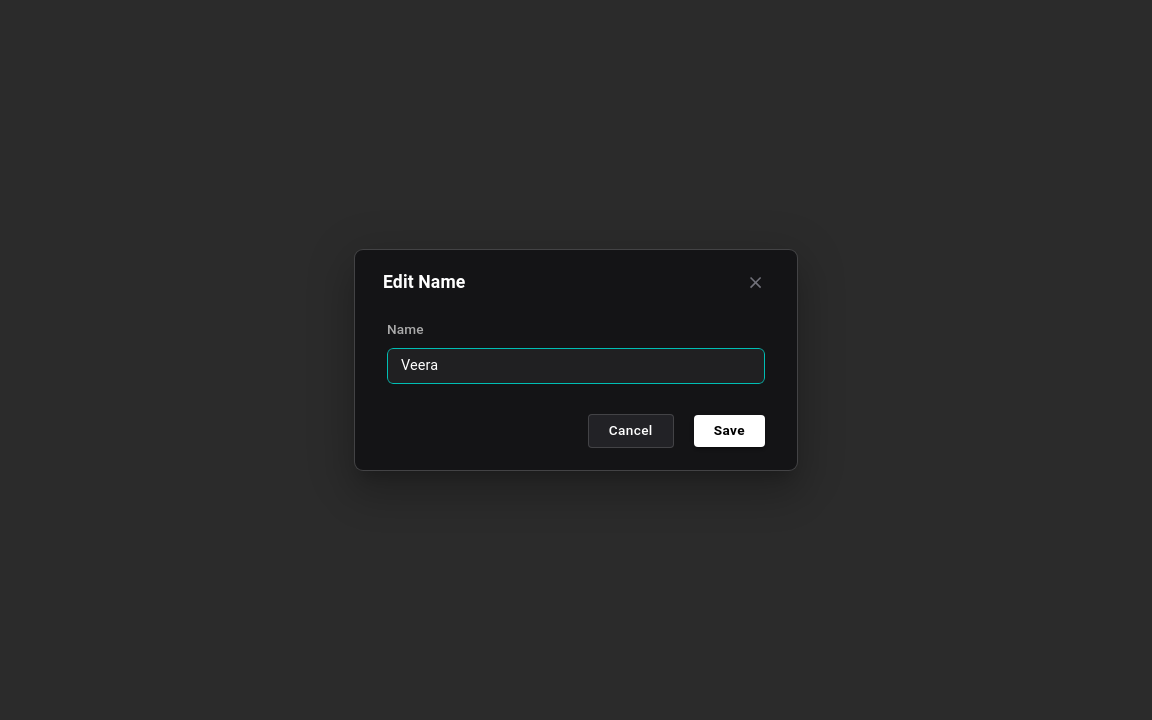
Test: EditNameModal Component › clears error message when typing into the input field
The image size is (1152, 720).
Clear the field showing "Veera" at (576, 366), box left=387, top=339, right=765, bottom=393
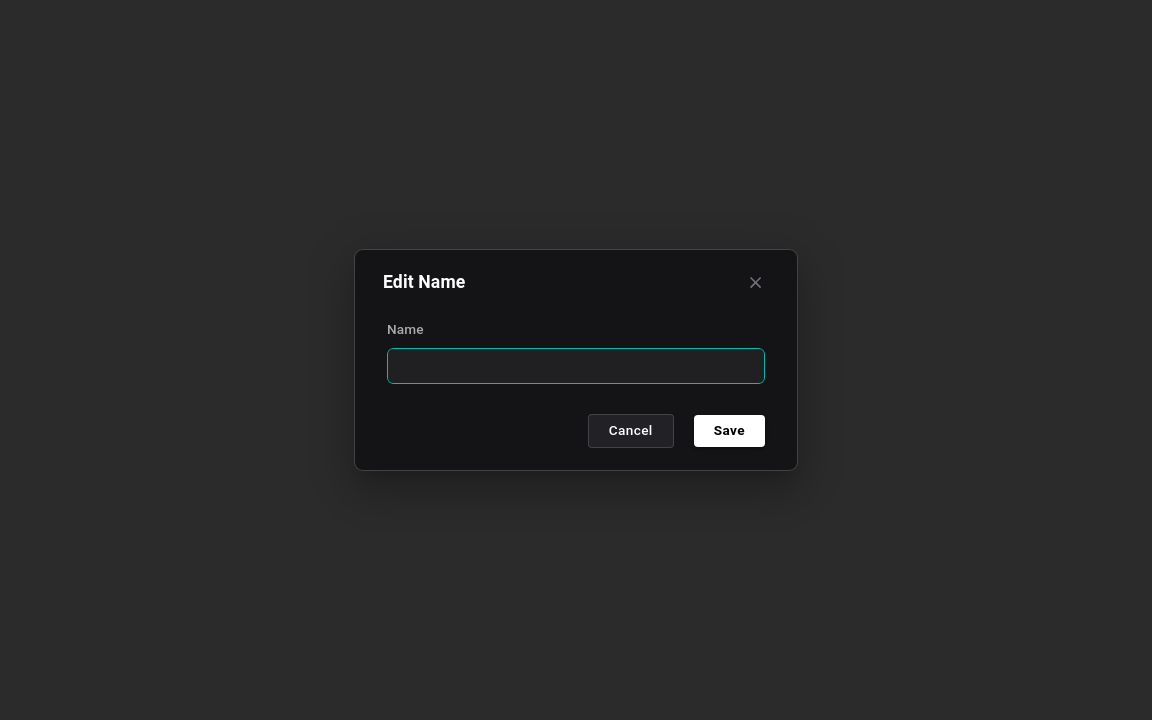
Click the button "Save".
click(729, 431)  # box left=694, top=415, right=765, bottom=447
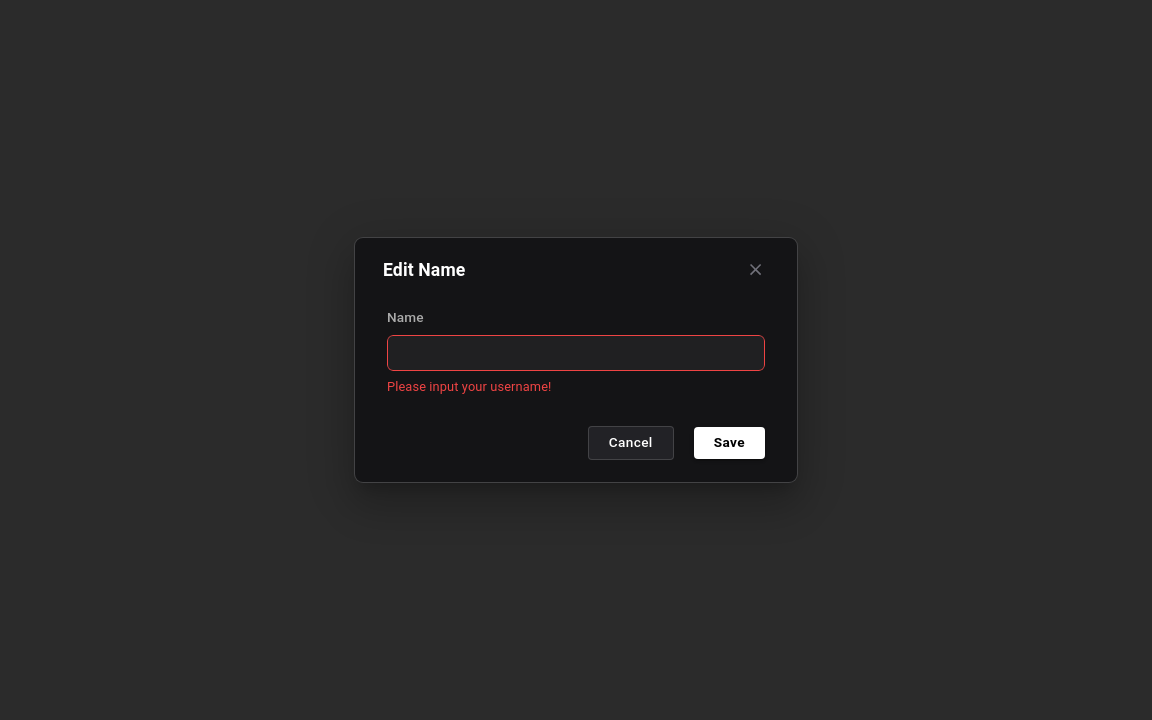
Now the text "Please input your username!" is shown, box left=387, top=379, right=552, bottom=394
Type "VeeraUpdated" into the field showing "Veera".
click(576, 353); type("VeeraUpdated")  # box left=387, top=326, right=765, bottom=380
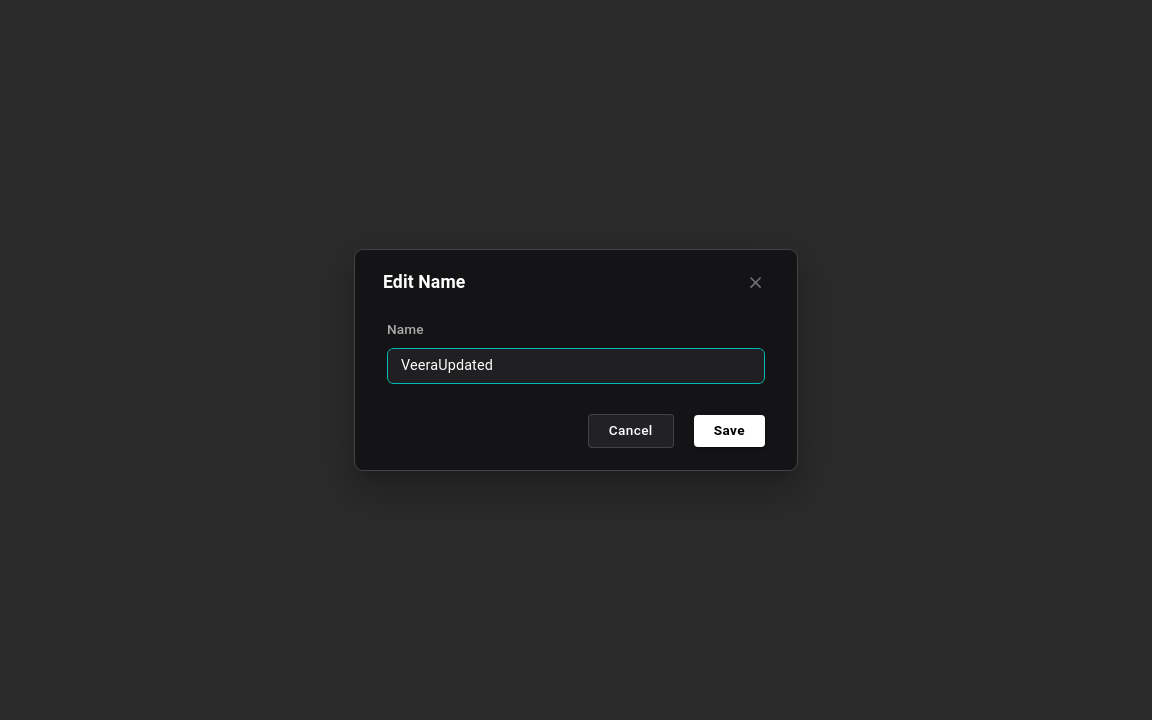
Now the text "Please input your username!" is gone
